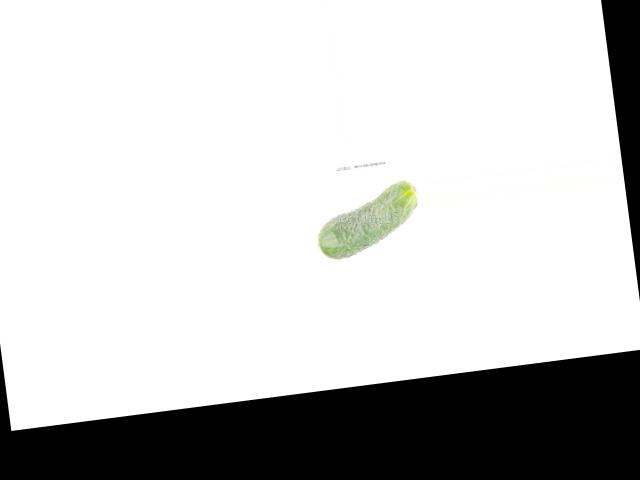cucumber: (310, 179, 423, 261)
